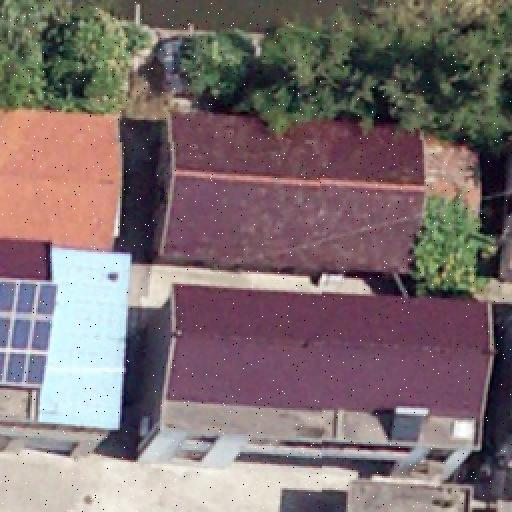solar-panel: (0, 280, 60, 384)
